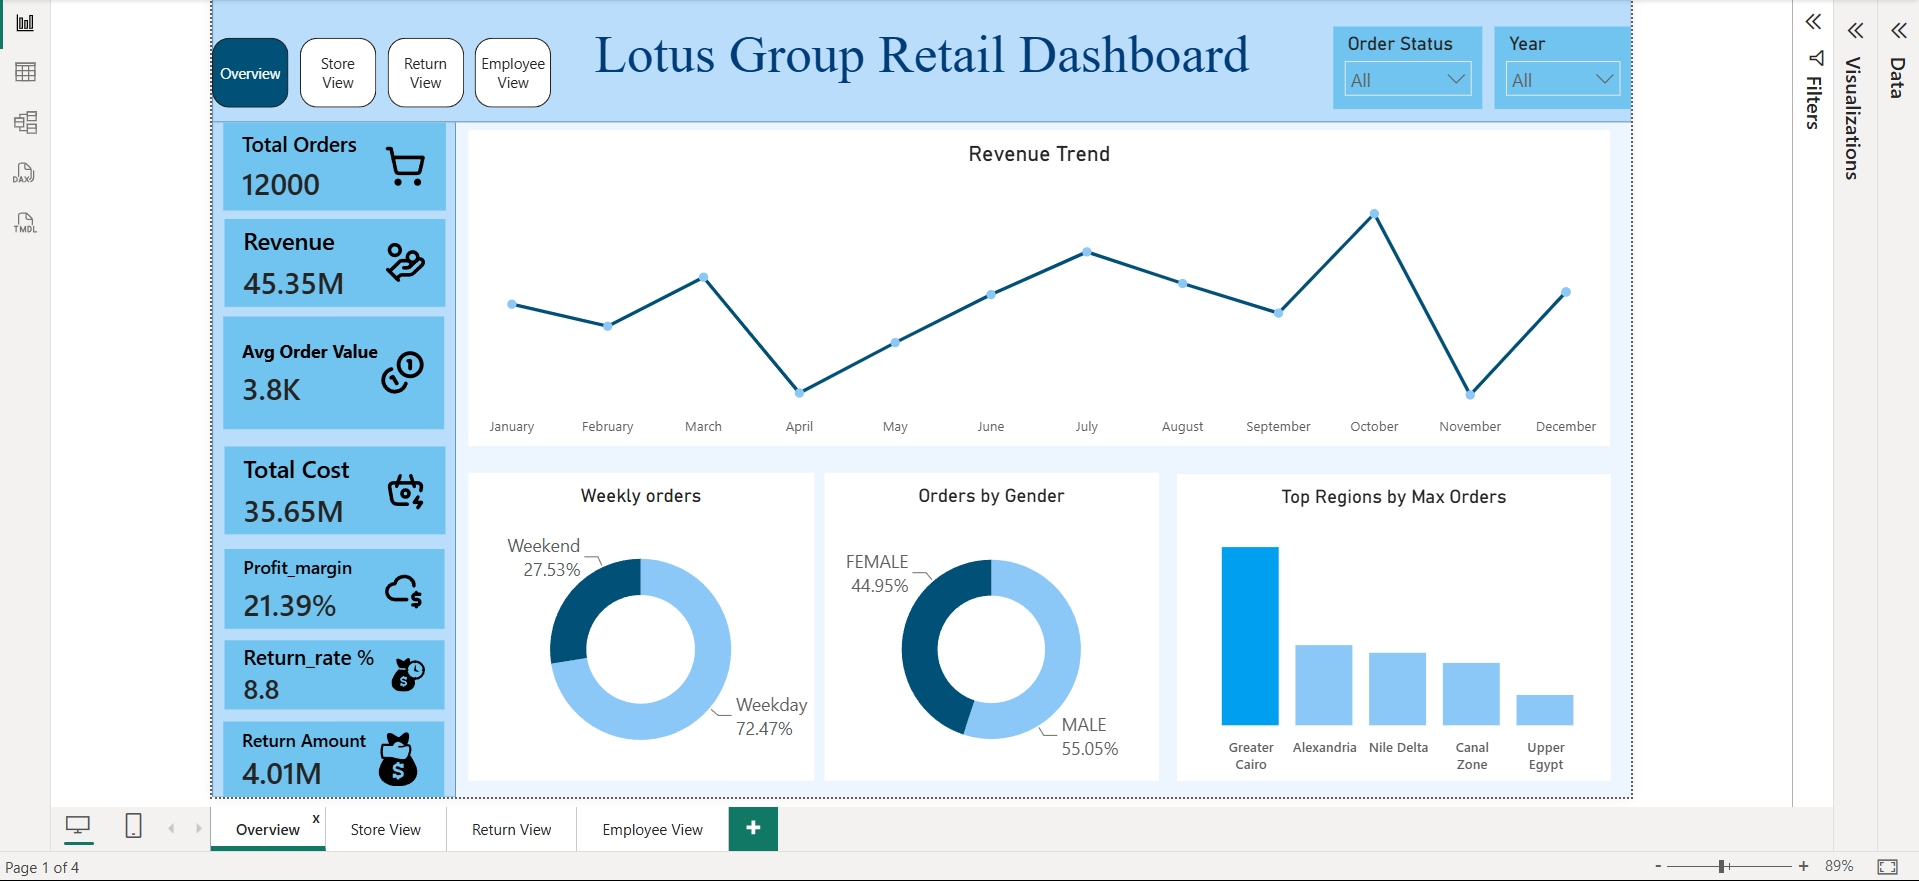

This screenshot's page, from the dashboard's own definition file:
{"tool":"powerbi","page":{"name":"Overview","canvas":[1280,720],"ordinal":0},"visuals":[{"type":"cardVisual","fields":{"Data":["Sum(updated_fact_orders_2022_2023_and_2024.total_revenue)"]},"box":[11,196.9,199.3,79.5],"z":0},{"type":"shape","box":[0,0,220.1,720.2],"z":1000},{"type":"shape","box":[0,0,1280.3,111.3],"z":2000},{"type":"lineChart","title":"Revenue Trend","fields":{"Category":["dim_date.month_name","dim_date.year"],"Y":["Sum(updated_fact_orders_2022_2023_and_2024.total_revenue)"]},"box":[231.1,118.6,1029.6,284.9],"z":4000},{"type":"textbox","box":[0,0,1280.3,111.3],"z":5000},{"type":"donutChart","title":"Weekly orders","fields":{"Y":["CountNonNull(updated_fact_orders_2022_2023_and_2024.order_id)"],"Series":["dim_date.is_weekend_text"]},"box":[231.2,427.5,311.2,277.5],"z":6000},{"type":"cardVisual","fields":{"Data":["CountNonNull(updated_fact_orders_2022_2023_and_2024.order_id)"]},"box":[10.1,111.6,200.6,78.9],"z":6500},{"type":"donutChart","title":"Orders by Gender","fields":{"Y":["CountNonNull(updated_fact_orders_2022_2023_and_2024.order_id)"],"Category":["dim_customers.gender"]},"box":[552.5,427.5,301.2,277.5],"z":7000},{"type":"columnChart","title":"Top Regions by Max Orders","fields":{"Category":["dim_stores.region"],"Y":["fact_order_details.Total_orders"]},"box":[870,428.1,391.1,277.2],"z":8000},{"type":"cardVisual","fields":{"Data":["fact_order_details.Average_order_value"]},"box":[9.8,286.1,199.3,101.5],"z":9000},{"type":"cardVisual","fields":{"Data":["updated_fact_orders_2022_2023_and_2024.Profit_margin"]},"box":[11.3,496,198.1,72.1],"z":10000},{"type":"pageNavigator","box":[0,35.5,306.9,63.6],"z":11000},{"type":"cardVisual","fields":{"Data":["Sum(updated_fact_orders_2022_2023_and_2024.total_cost)"]},"box":[11,403.5,199.3,79.5],"z":12000},{"type":"cardVisual","fields":{"Data":["Sum(updated_fact_orders_2022_2023_and_2024.total_revenue)"]},"box":[11.3,198.4,199.5,78.9],"z":13000},{"type":"slicer","fields":{"Values":["dim_date.year"]},"box":[1157,24.4,123.3,74.4],"z":14000},{"type":"slicer","fields":{"Values":["updated_fact_orders_2022_2023_and_2024.order_status"]},"box":[1011.3,24.5,134.5,74.6],"z":15000},{"type":"cardVisual","fields":{"Data":["Sum(fact_returns.return_amount)"]},"box":[9.8,651.5,199.3,68.5],"z":16000},{"type":"cardVisual","fields":{"Data":["fact_returns.Return_rate"]},"box":[11,578.4,198.1,62.4],"z":17000}]}

Visuals, with their boxes on the page's 1280x720 design canvas (x1, y1, x2, y2). These are canvas units, not pixel positions in the 1919x881 screenshot, which may show the page scaled, cropped or inside an application window:
cardVisual - Sum(updated_fact_orders_2022_2023_and_2024.total_revenue): [11,197,210,276]
shape: [0,0,220,720]
shape: [0,0,1280,111]
"Revenue Trend" lineChart: [231,119,1261,404]
textbox: [0,0,1280,111]
"Weekly orders" donutChart: [231,428,542,705]
cardVisual - CountNonNull(updated_fact_orders_2022_2023_and_2024.order_id): [10,112,211,190]
"Orders by Gender" donutChart: [552,428,854,705]
"Top Regions by Max Orders" columnChart: [870,428,1261,705]
cardVisual - fact_order_details.Average_order_value: [10,286,209,388]
cardVisual - updated_fact_orders_2022_2023_and_2024.Profit_margin: [11,496,209,568]
pageNavigator: [0,36,307,99]
cardVisual - Sum(updated_fact_orders_2022_2023_and_2024.total_cost): [11,404,210,483]
cardVisual - Sum(updated_fact_orders_2022_2023_and_2024.total_revenue): [11,198,211,277]
slicer - dim_date.year: [1157,24,1280,99]
slicer - updated_fact_orders_2022_2023_and_2024.order_status: [1011,24,1146,99]
cardVisual - Sum(fact_returns.return_amount): [10,652,209,720]
cardVisual - fact_returns.Return_rate: [11,578,209,641]
